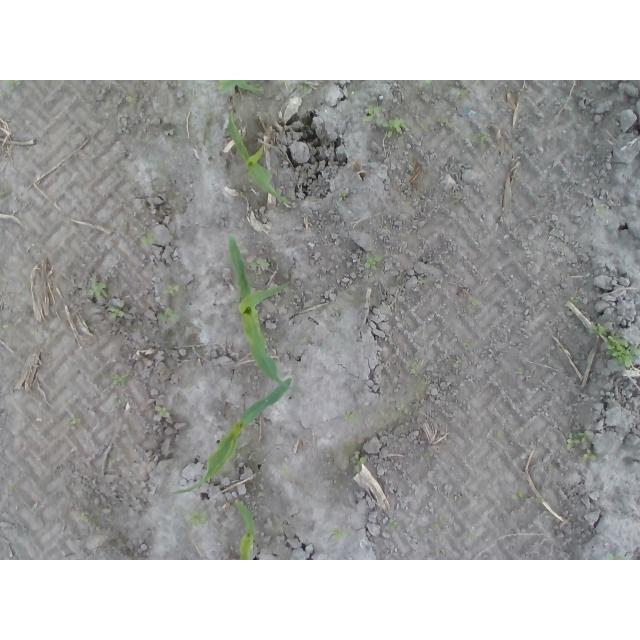Maize: (168, 379, 292, 504), (226, 234, 299, 394), (227, 109, 294, 204), (234, 500, 257, 561), (216, 81, 260, 96)
Weeds: (605, 337, 640, 368), (381, 116, 408, 137), (87, 281, 109, 300), (157, 307, 183, 322), (363, 106, 386, 122), (350, 453, 367, 474), (566, 431, 590, 445), (190, 512, 208, 528), (249, 258, 271, 271), (364, 255, 383, 270), (161, 284, 180, 296), (154, 406, 171, 419), (343, 412, 361, 424), (583, 448, 598, 462), (591, 324, 610, 335), (109, 307, 125, 319), (113, 375, 128, 386), (65, 415, 80, 426), (511, 488, 524, 500), (608, 552, 625, 560), (421, 80, 434, 90), (278, 464, 289, 474), (143, 235, 154, 245), (480, 130, 489, 142), (389, 520, 399, 529), (441, 114, 448, 126), (336, 531, 343, 542), (338, 192, 346, 201), (471, 299, 481, 306), (515, 369, 524, 376)
